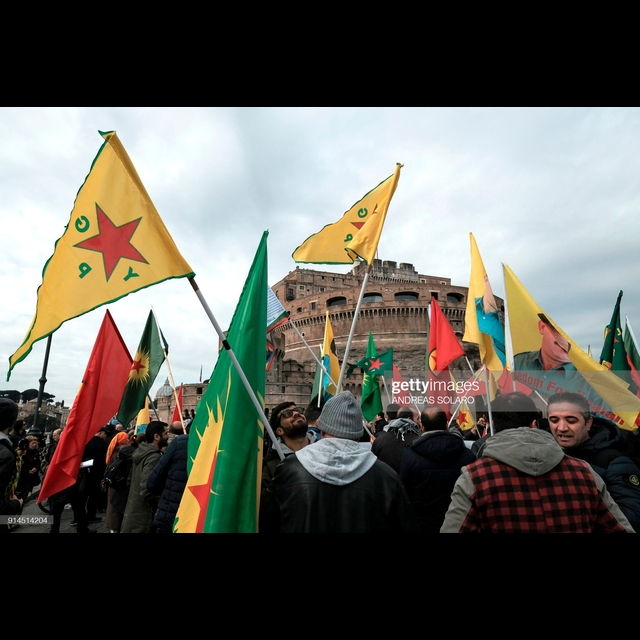KCK: (128, 349, 153, 385)
YPG: (66, 203, 147, 288)
